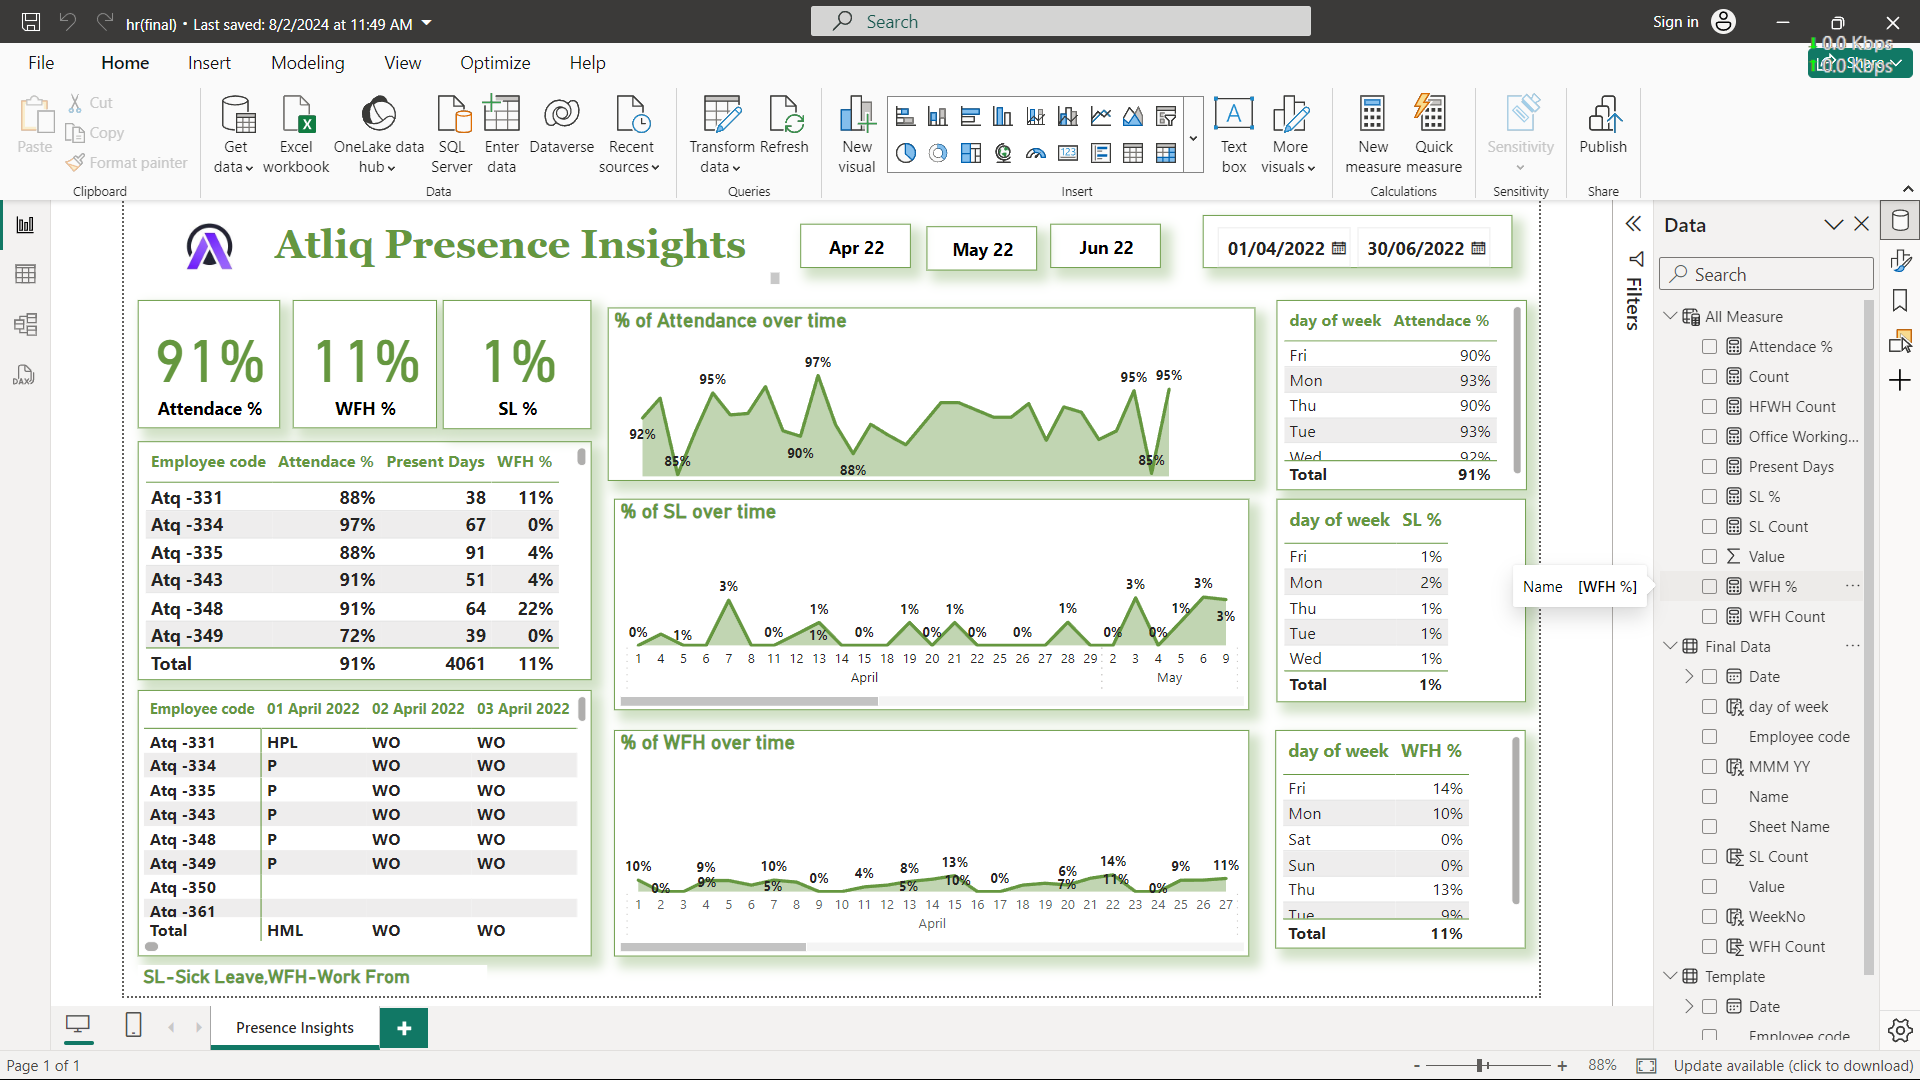

Layout of this report page (visuals, bound fields, positions):
{"tool":"powerbi","page":{"name":"Presence Insights ","canvas":[1280,720],"ordinal":0},"visuals":[{"type":"card","fields":{"Values":["All Measure.Attendace %"]},"box":[12.8,90.7,129.1,116.3],"z":0},{"type":"card","fields":{"Values":["All Measure.WFH %"]},"box":[152.3,90.7,130.2,116.3],"z":1000},{"type":"tableEx","fields":{"Values":["Final Data.Employee code","All Measure.Attendace %","All Measure.Present Days","All Measure.WFH %"]},"box":[12.4,218.1,410.3,215.9],"z":2000},{"type":"pivotTable","fields":{"Rows":["Final Data.Employee code"],"Columns":["Final Data.Date"],"Values":["Final Data.Value"]},"box":[12.8,443,410.5,240.7],"z":3000},{"type":"card","fields":{"Values":["All Measure.SL %"]},"box":[288.2,90.6,134.5,116.6],"z":4000},{"type":"areaChart","title":"% of Attendance over time ","fields":{"Y":["All Measure.Attendace %"],"Category":["Final Data.Date.Variation.Date Hierarchy.Day"]},"box":[437.4,97.2,585.5,157.1],"z":5000},{"type":"areaChart","title":"% of SL over time","fields":{"Y":["All Measure.SL %"],"Category":["Final Data.Date.Variation.Date Hierarchy.Month","Final Data.Date.Variation.Date Hierarchy.Day"]},"box":[443.1,270.1,574.2,191],"z":6000},{"type":"areaChart","title":"% of WFH over time ","fields":{"Y":["All Measure.WFH %"],"Category":["Final Data.Date.Variation.Date Hierarchy.Month","Final Data.Date.Variation.Date Hierarchy.Day"]},"box":[443.1,479.2,574.2,204.6],"z":7000},{"type":"tableEx","fields":{"Values":["Final Data.day of week","All Measure.Attendace %"]},"box":[1041.9,90.7,226.7,172.1],"z":8000},{"type":"tableEx","fields":{"Values":["Final Data.day of week","All Measure.SL %"]},"box":[1041.9,269.8,225.6,183.7],"z":9000},{"type":"tableEx","fields":{"Values":["Final Data.day of week","All Measure.WFH %"]},"box":[1040.7,479.1,226.7,197.7],"z":10000},{"type":"actionButton","title":"Apr 22","box":[612,22,100.2,39.8],"z":11000},{"type":"actionButton","box":[725.9,23.3,100.2,39.8],"z":12000},{"type":"actionButton","box":[837.1,22,100.2,39.8],"z":13000},{"type":"slicer","fields":{"Values":["Final Data.Date"]},"box":[975.6,14,280.2,47.7],"z":14000},{"type":"textbox","title":"SL-Sick Leave,WFH-Work From Home ","box":[12.8,691.9,316.3,19.8],"z":15000},{"type":"image","box":[22.1,2.3,109.3,79.1],"z":16000},{"type":"textbox","title":"Atliq Presence Insights ","box":[131.4,0,466.3,81.4],"z":17000}]}

Visuals, with their boxes on the page's 1280x720 design canvas (x1, y1, x2, y2). These are canvas units, not pixel positions in the 1920x1080 screenshot, which may show the page scaled, cropped or inside an application window:
card - All Measure.Attendace %: <box>13,91,142,207</box>
card - All Measure.WFH %: <box>152,91,282,207</box>
tableEx - Final Data.Employee code x All Measure.Attendace %: <box>12,218,423,434</box>
pivotTable - Final Data.Employee code x Final Data.Date: <box>13,443,423,684</box>
card - All Measure.SL %: <box>288,91,423,207</box>
"% of Attendance over time " areaChart: <box>437,97,1023,254</box>
"% of SL over time" areaChart: <box>443,270,1017,461</box>
"% of WFH over time " areaChart: <box>443,479,1017,684</box>
tableEx - Final Data.day of week x All Measure.Attendace %: <box>1042,91,1269,263</box>
tableEx - Final Data.day of week x All Measure.SL %: <box>1042,270,1268,454</box>
tableEx - Final Data.day of week x All Measure.WFH %: <box>1041,479,1267,677</box>
"Apr 22" actionButton: <box>612,22,712,62</box>
actionButton: <box>726,23,826,63</box>
actionButton: <box>837,22,937,62</box>
slicer - Final Data.Date: <box>976,14,1256,62</box>
"SL-Sick Leave,WFH-Work From Home " textbox: <box>13,692,329,712</box>
image: <box>22,2,131,81</box>
"Atliq Presence Insights " textbox: <box>131,0,598,81</box>
